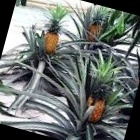Pineapple: (41, 4, 69, 52)
